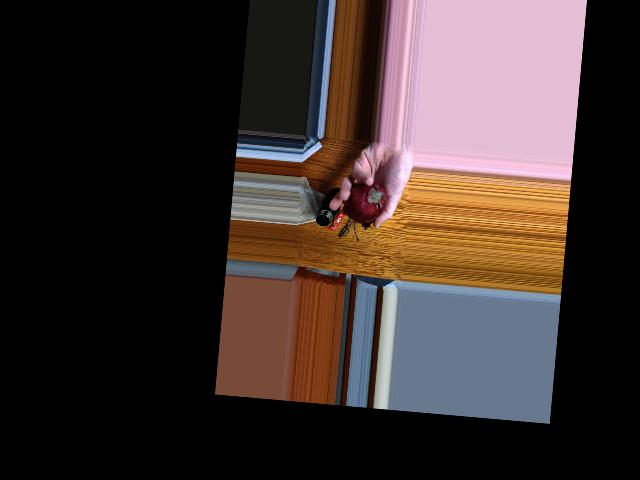onion: (346, 180, 388, 220)
